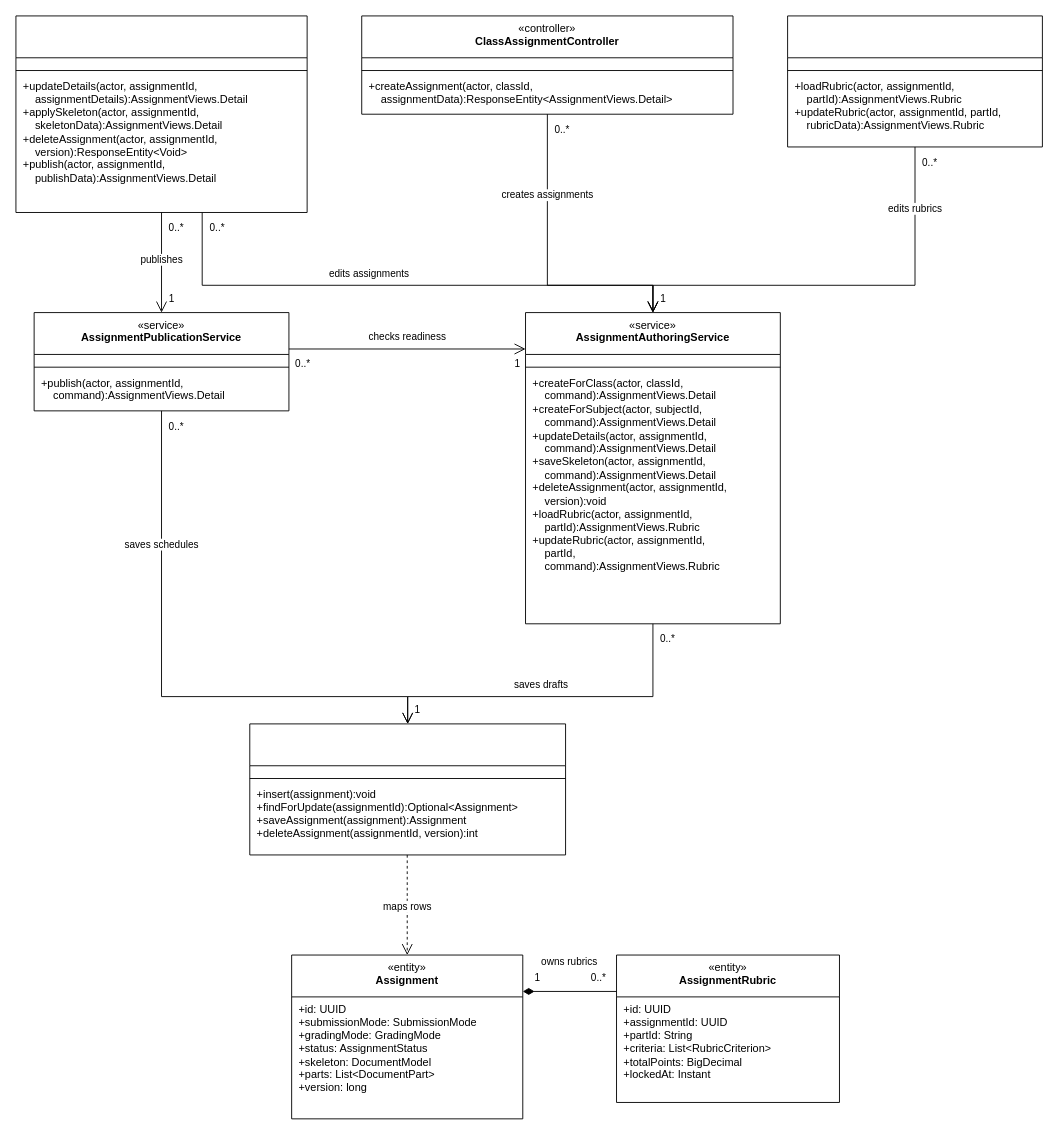
This 1058x1138 diagram has some shape labels left out. The box of each missing label's shape, as (x1, y1, x2, y2) in pixels:
«controller» AssignmentController: (15, 15, 307, 212)
«controller» RubricController: (787, 15, 1042, 147)
«repository» AssignmentRepository: (249, 723, 566, 855)
